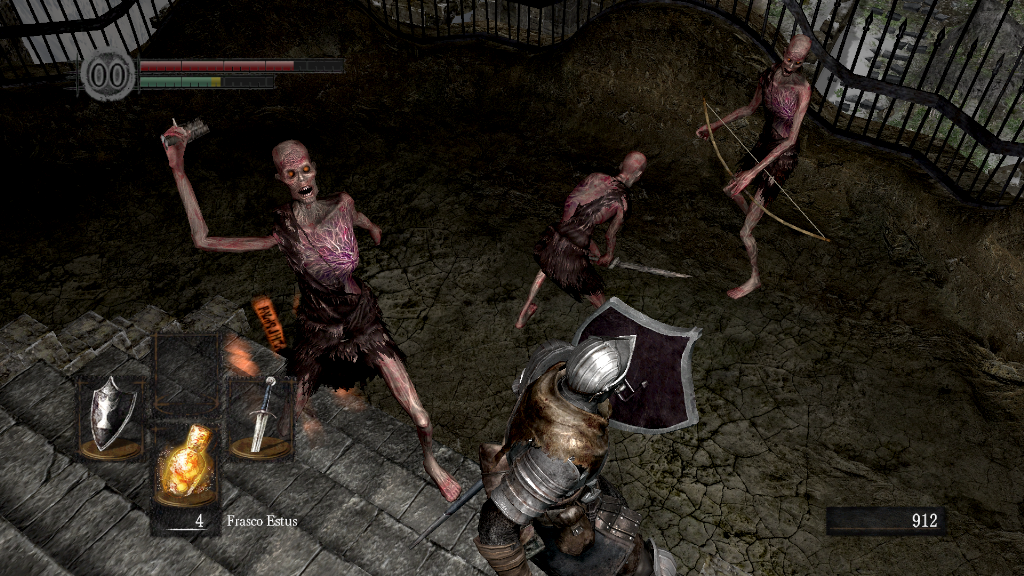health: (138, 58, 343, 71)
hollow: (157, 114, 463, 502), (690, 34, 828, 302), (515, 150, 693, 357)
humanity: (80, 45, 136, 102)
player: (408, 297, 701, 576)
souls: (825, 506, 945, 536)
stamina: (138, 74, 274, 88)
